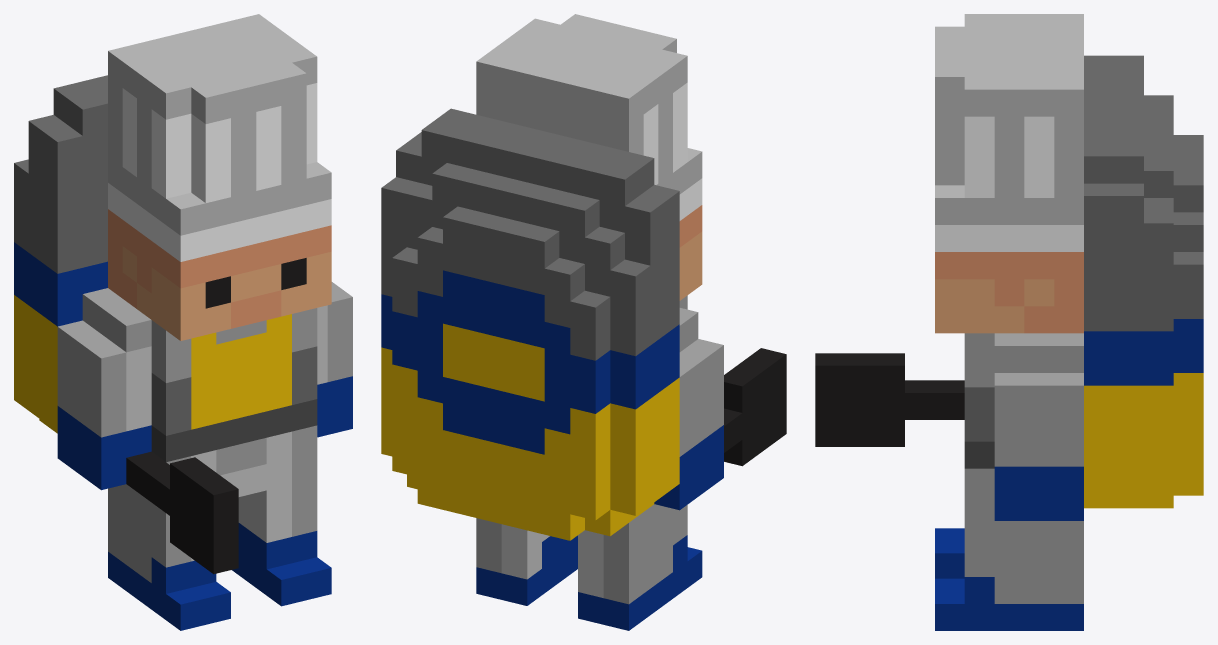
Rendered from ikeachef.glb.
3 renders of one model, left to right at view 1: azimuth 30°, elevation 25°; view 2: azimuth 150°, elevation 25°; view 3: azimuth 270°, elevation 25°, orthographic. The views are drawn at different scales.
Visible parts, largest first — view 1: ikeachef.vox.002; view 2: ikeachef.vox.002; view 3: ikeachef.vox.002.
Part boxes in pixels (box(x1,y1,x2,y2)): ikeachef.vox.002: box(14, 14, 352, 630); ikeachef.vox.002: box(381, 14, 786, 630); ikeachef.vox.002: box(815, 14, 1203, 630).
Size of the model in its own units: 1 by 2 by 1.3.
Materials: 1 (1 with a texture image).
